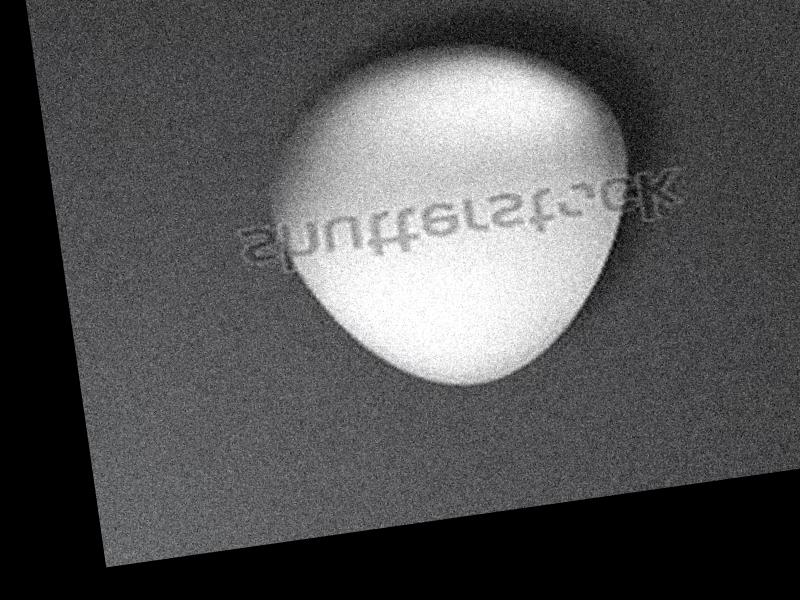Eggs: (252, 25, 655, 411)
